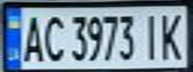3: (115, 11, 139, 62), (66, 11, 87, 62)
7: (100, 11, 121, 62)
9: (84, 11, 106, 62)
A: (18, 10, 45, 63)
C: (39, 11, 66, 63)
I: (139, 10, 163, 61)
K: (157, 9, 190, 61)
